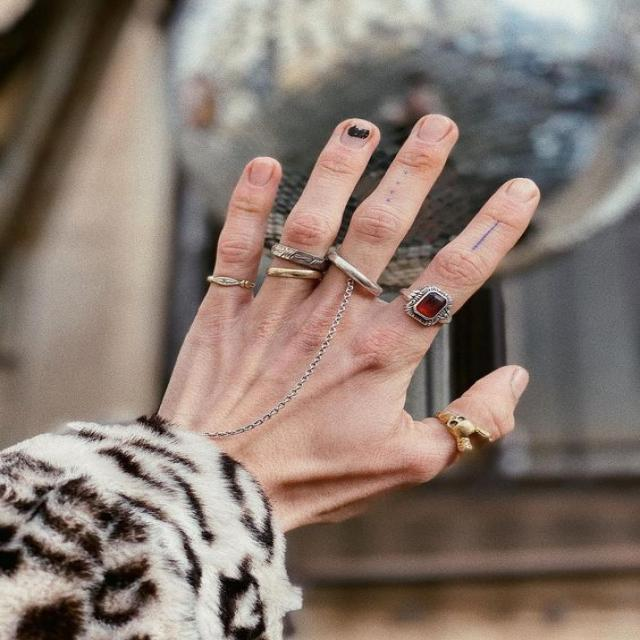Fingernail: (418, 117, 451, 145), (341, 124, 370, 151), (507, 180, 535, 205), (250, 162, 273, 186), (511, 370, 530, 398)
